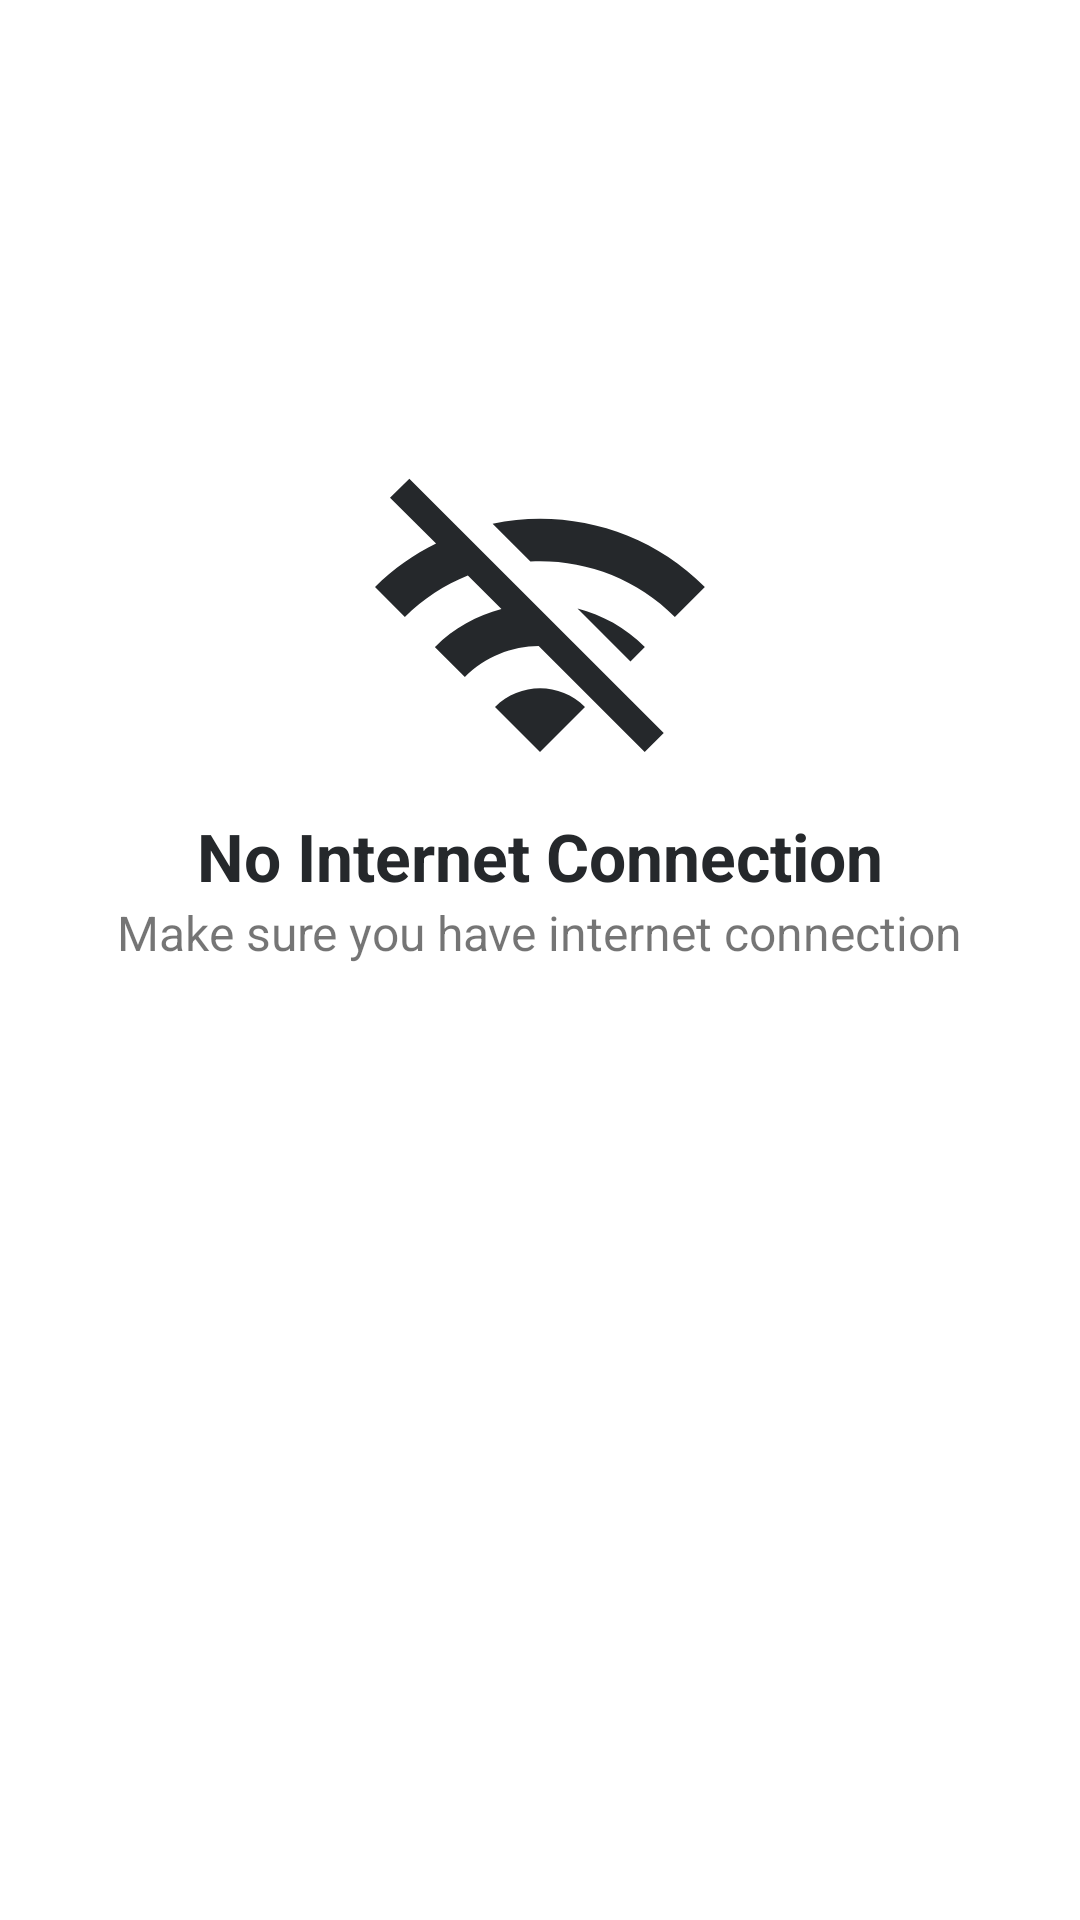

Where icons sit on this 1080×1920 app screen, as bbox=(x1, y1, x2, y2):
wifi off: bbox=(375, 479, 705, 752)
